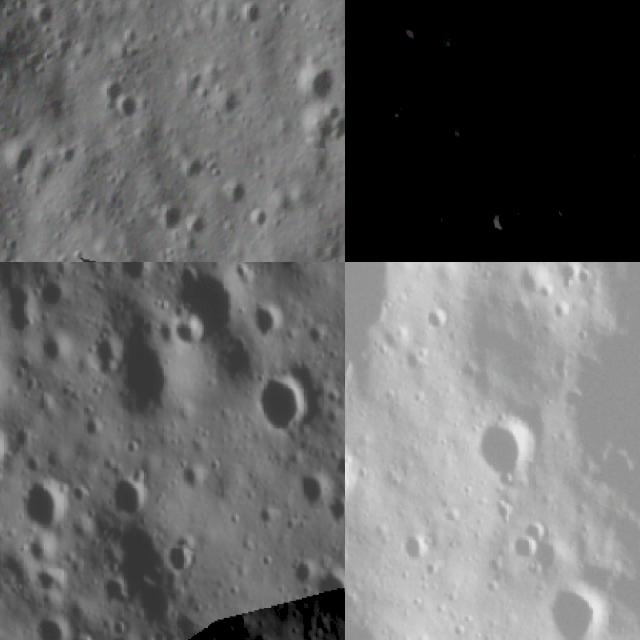crater: (345, 262, 407, 400), (474, 406, 549, 495), (532, 580, 612, 640), (345, 586, 405, 640), (258, 370, 304, 438), (287, 53, 341, 101), (27, 478, 71, 536), (0, 289, 42, 344), (546, 186, 591, 230), (386, 86, 429, 132), (107, 87, 151, 130), (481, 201, 526, 241), (512, 262, 557, 302), (112, 466, 147, 517), (448, 106, 486, 152), (151, 196, 191, 236), (211, 176, 251, 215), (167, 539, 200, 586), (400, 10, 438, 48), (250, 302, 284, 342), (177, 151, 213, 188), (293, 471, 329, 508), (425, 305, 457, 345), (317, 574, 345, 619), (400, 528, 434, 565), (507, 530, 542, 565), (35, 614, 68, 640), (292, 556, 312, 590), (327, 494, 345, 525), (625, 134, 640, 169), (121, 262, 147, 280), (138, 630, 169, 640), (71, 632, 92, 640)
